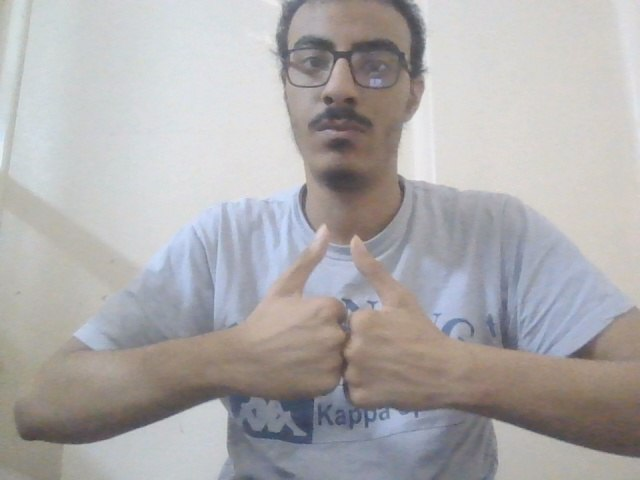Help: (229, 220, 466, 427)
